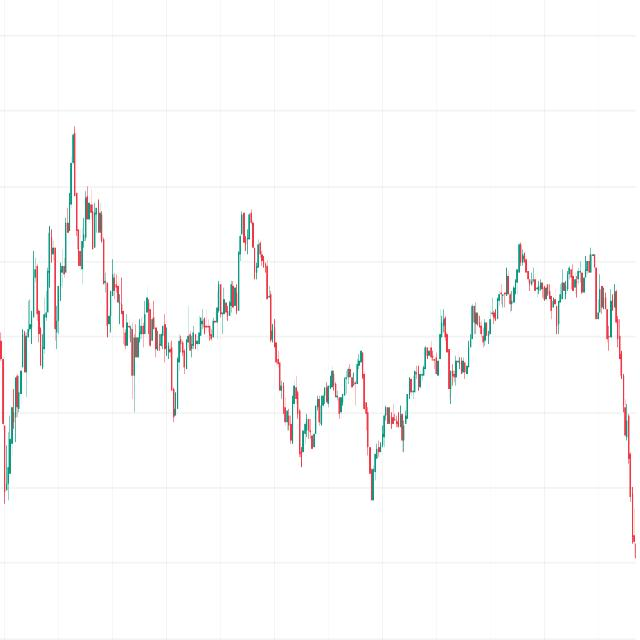Channel-up: (360, 292, 456, 539), (442, 211, 538, 432)
Double-Top: (81, 180, 106, 266)
Rising-Wedge: (275, 343, 370, 490)
Rounding-Bottom: (97, 216, 243, 428)
